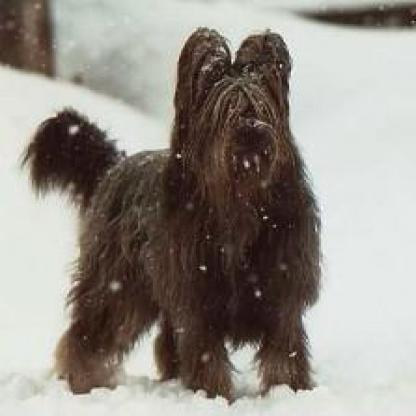briard: (21, 25, 319, 396)
